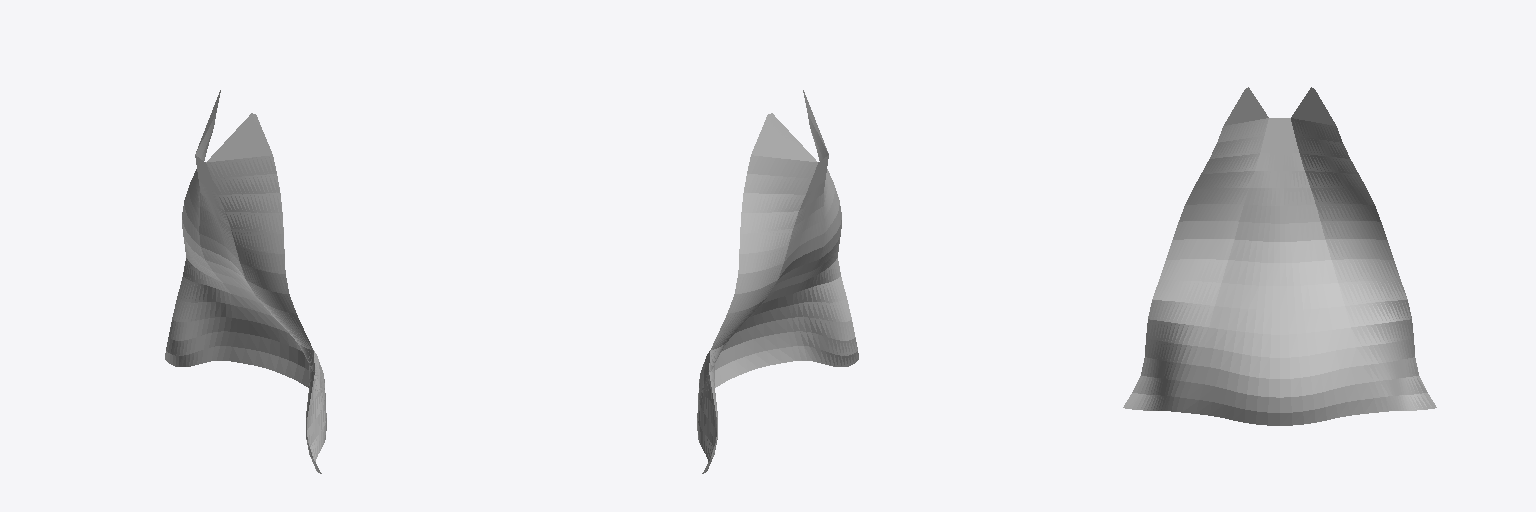
File: BetterDarknessCape.obj
3 views of the same model, side by side, from view 1: azimuth 30°, elevation 25°; view 2: azimuth 150°, elevation 25°; view 3: azimuth 270°, elevation 25° (orthographic).
Visible parts, largest first — view 1: Plane.001_Plane.005; view 2: Plane.001_Plane.005; view 3: Plane.001_Plane.005.
Boxes of the visible parts, box(x1,y1,x2,y2) form: Plane.001_Plane.005: box(165, 90, 326, 473); Plane.001_Plane.005: box(697, 90, 858, 473); Plane.001_Plane.005: box(1123, 87, 1436, 425).
Size of the model in its own units: 6.17 by 16.89 by 15.12.